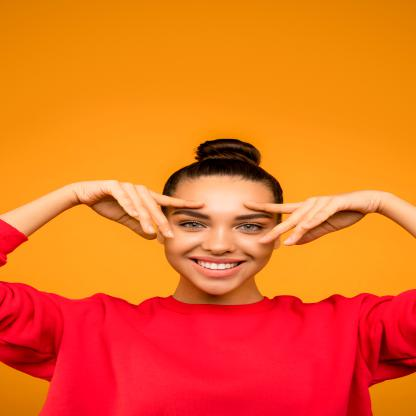Eye: (173, 220, 209, 232), (233, 221, 266, 233)
Mouth: (183, 256, 254, 278)
Nose: (199, 228, 237, 254)
